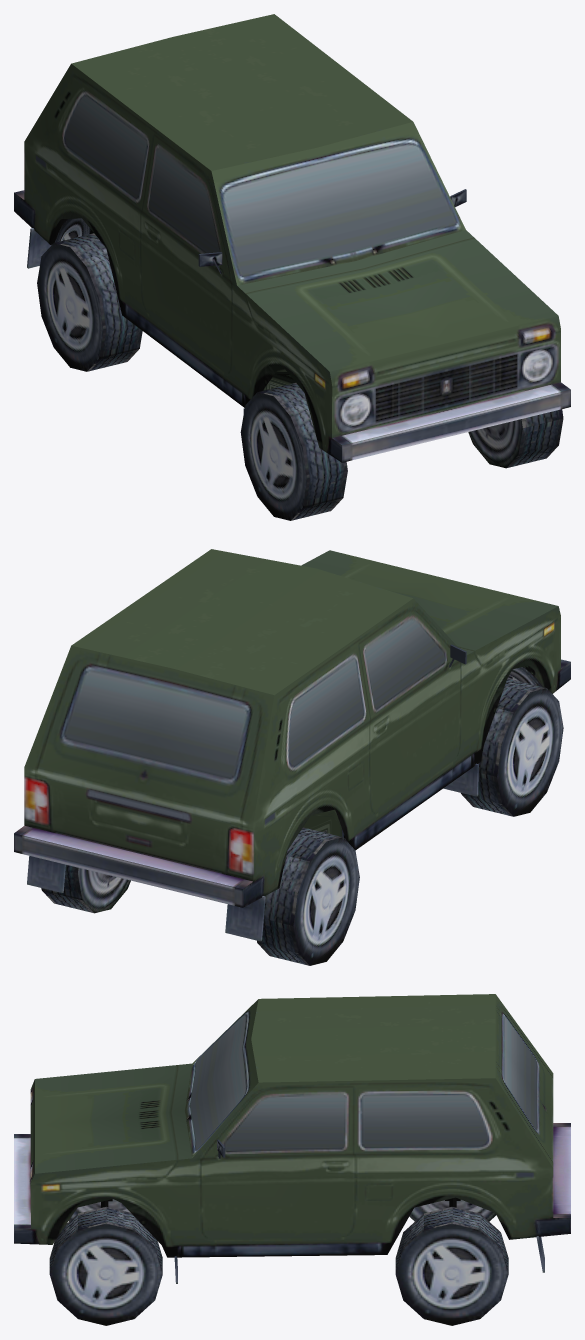
The model's file is uaz_green.glb.
3 views of the same model, one above another, from view 1: azimuth 30°, elevation 25°; view 2: azimuth 150°, elevation 25°; view 3: azimuth 270°, elevation 25° (orthographic). The views are drawn at different scales.
Parts seen in each view (by area): view 1: _MeshInstance3D_99, _MeshInstance3D_101, _MeshInstance3D_102, _MeshInstance3D_100; view 2: _MeshInstance3D_99, _MeshInstance3D_102, _MeshInstance3D_101, _MeshInstance3D_103; view 3: _MeshInstance3D_99, _MeshInstance3D_103, _MeshInstance3D_100, _MeshInstance3D_102.
Part boxes in pixels (bbox=[...]): _MeshInstance3D_99: bbox=[14, 14, 570, 462]; _MeshInstance3D_101: bbox=[240, 383, 347, 520]; _MeshInstance3D_102: bbox=[37, 233, 142, 371]; _MeshInstance3D_100: bbox=[468, 409, 563, 468]; _MeshInstance3D_99: bbox=[14, 549, 570, 941]; _MeshInstance3D_102: bbox=[257, 827, 359, 965]; _MeshInstance3D_101: bbox=[461, 678, 563, 816]; _MeshInstance3D_103: bbox=[41, 865, 130, 913]; _MeshInstance3D_99: bbox=[14, 994, 570, 1283]; _MeshInstance3D_103: bbox=[395, 1207, 508, 1325]; _MeshInstance3D_100: bbox=[49, 1206, 162, 1325]; _MeshInstance3D_102: bbox=[409, 1200, 496, 1221].
Size of the model in its own units: 1.75 by 1.76 by 3.72.
Materials: 2 (1 with a texture image).
